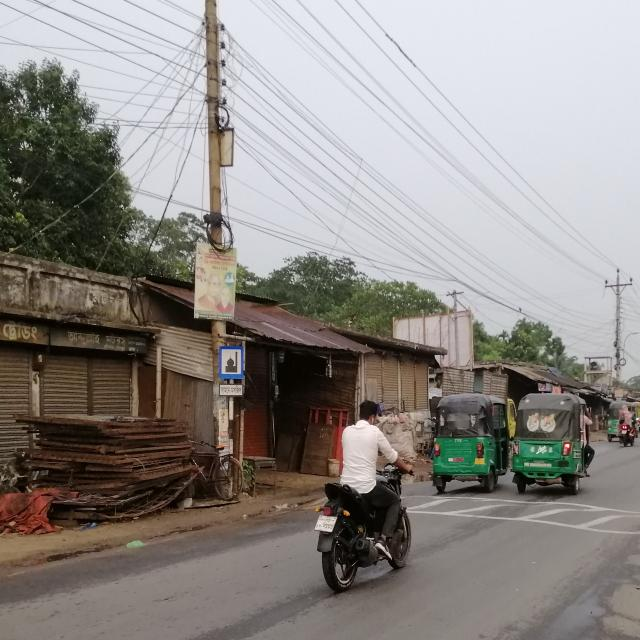CNG: (512, 393, 594, 501), (430, 393, 510, 497)
Motorbike: (312, 460, 417, 590)
